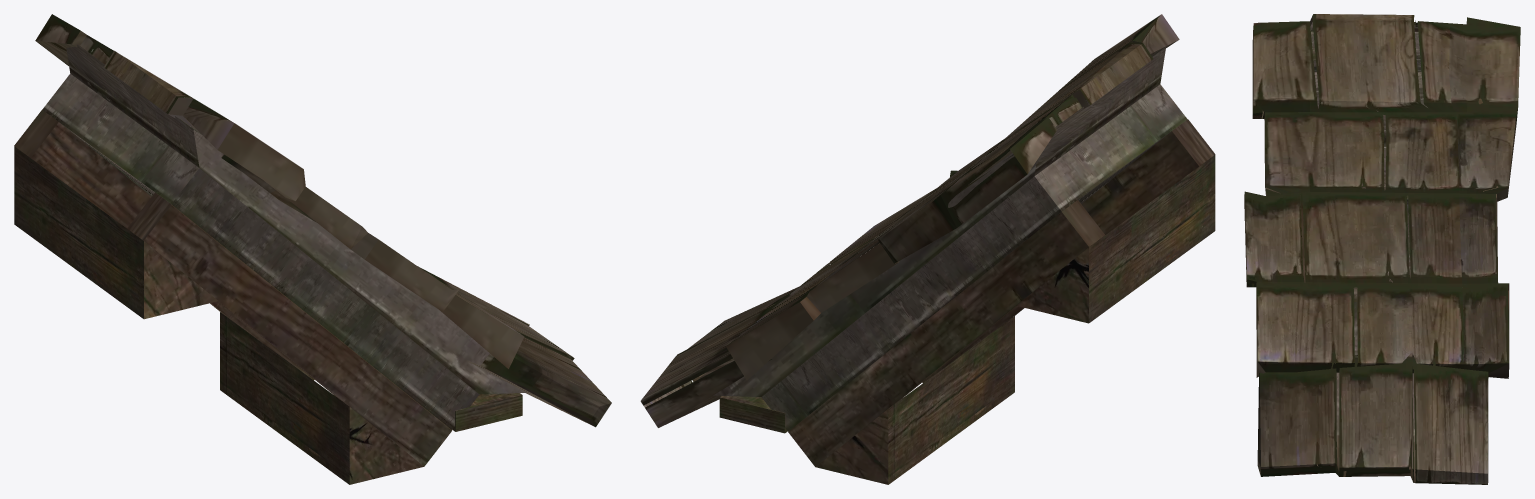
3 renders of one model, left to right at view 1: azimuth 30°, elevation 25°; view 2: azimuth 150°, elevation 25°; view 3: azimuth 270°, elevation 25°, orthographic. The views are drawn at different scales.
Parts seen in each view (by area): view 1: SM_T1_Roof_Small_LOD0; view 2: SM_T1_Roof_Small_LOD0; view 3: SM_T1_Roof_Small_LOD0.
Part boxes in pixels (x1=…): SM_T1_Roof_Small_LOD0: x1=14, y1=14, x2=611, y2=484; SM_T1_Roof_Small_LOD0: x1=640, y1=14, x2=1215, y2=484; SM_T1_Roof_Small_LOD0: x1=1244, y1=14, x2=1520, y2=484.
Size of the model in its own units: 1.57 by 1.31 by 1.01.
Materials: 3 (3 with a texture image).
